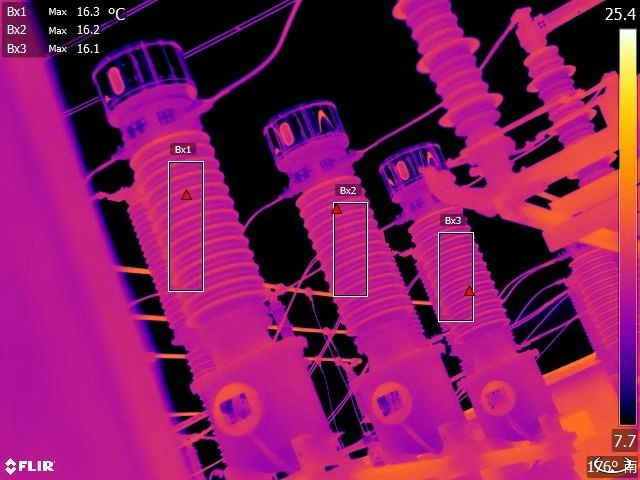circuit breaker: (122, 185, 186, 360)
clamp: (302, 283, 320, 311), (319, 321, 336, 350), (308, 349, 325, 369)
current transformer: (89, 30, 350, 471), (262, 75, 470, 459), (382, 126, 559, 444), (557, 224, 620, 368)
post insulator: (380, 1, 504, 147), (516, 42, 611, 179)
switch: (513, 1, 620, 52)
